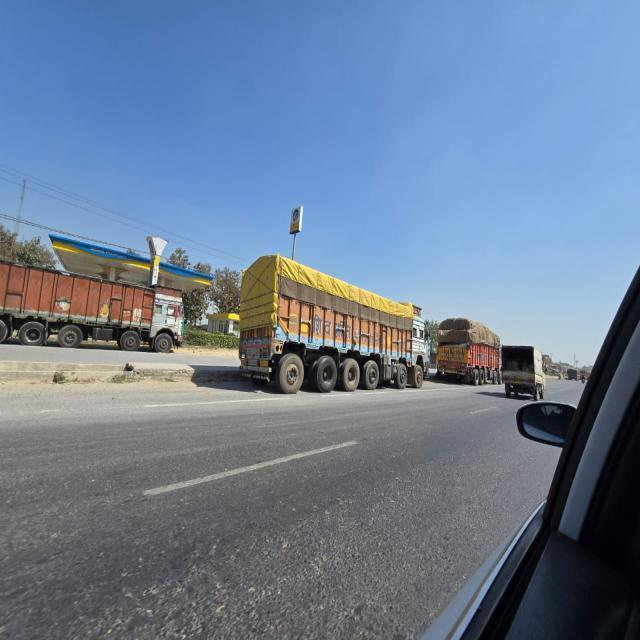covered: (227, 256, 421, 406), (434, 309, 499, 386)
uncovered: (0, 258, 188, 358)
